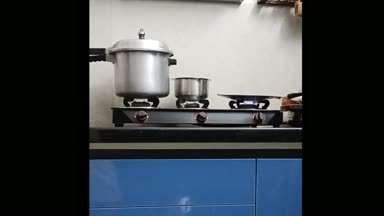flame_gas_off: (121, 96, 160, 125)
flame_gas_on: (176, 100, 211, 124), (235, 101, 268, 125)
